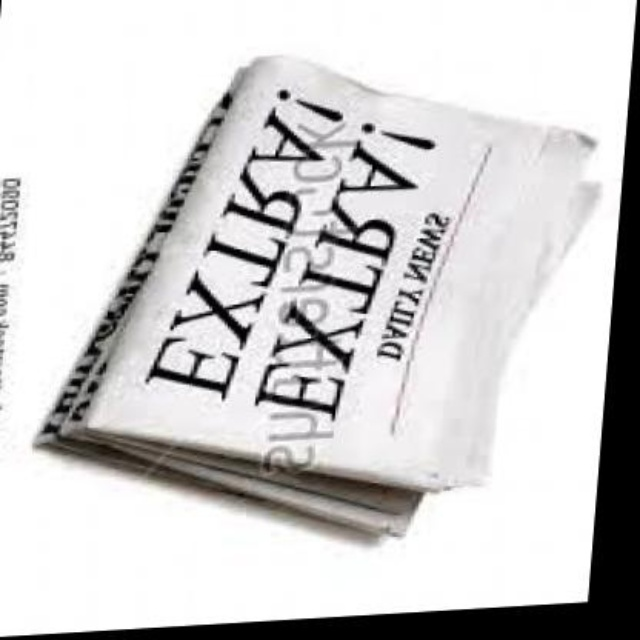trash: (38, 57, 594, 534)
